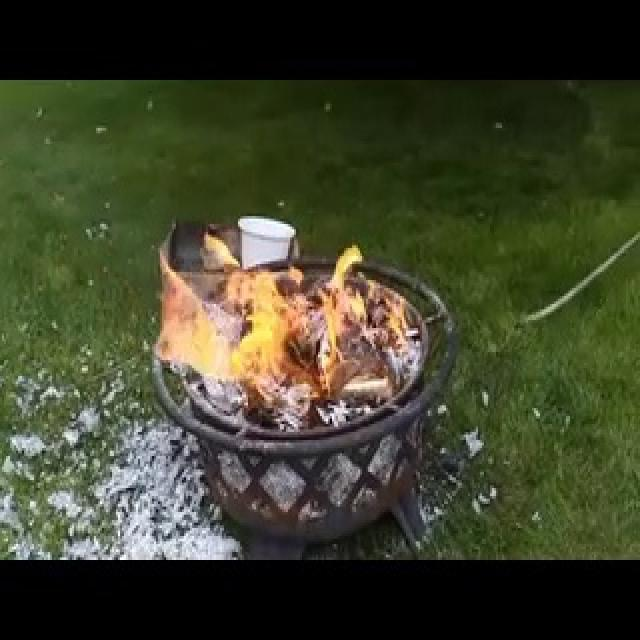fire: (149, 103, 433, 414)
